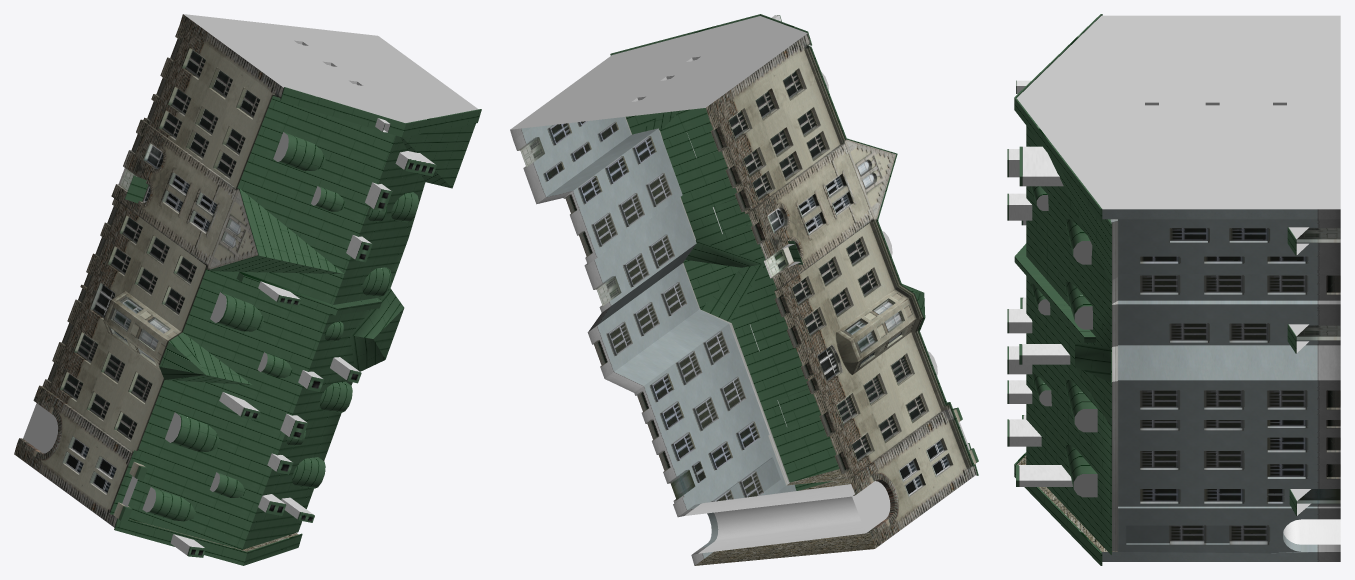
The model's file is Toompuiestee_30_1.obj.
3 renders of one model, left to right at view 1: azimuth 30°, elevation 25°; view 2: azimuth 150°, elevation 25°; view 3: azimuth 270°, elevation 25°, orthographic. The views are drawn at different scales.
Parts seen in each view (by area): view 1: Toompuiestee_30_1; view 2: Toompuiestee_30_1; view 3: Toompuiestee_30_1.
Part boxes in pixels (<box>): Toompuiestee_30_1: <box>14,14,481,565</box>; Toompuiestee_30_1: <box>510,14,978,565</box>; Toompuiestee_30_1: <box>1007,14,1340,565</box>.
Bounding box in the file's own units: 29.01 × 34.67 × 19.23.
